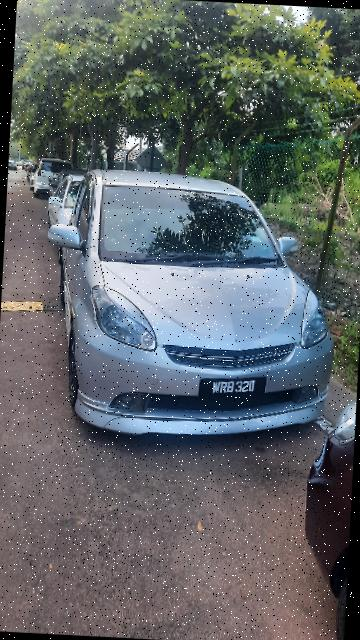License_Plate: (194, 373, 270, 400)
car: (36, 162, 348, 445)
